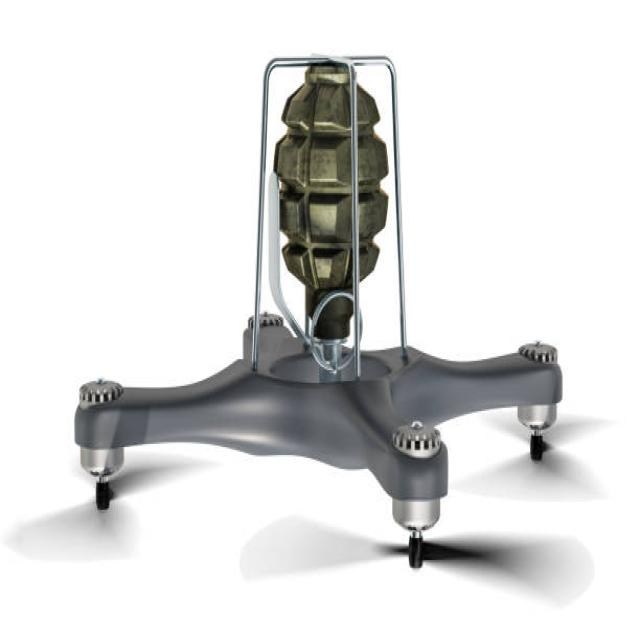grenade: (273, 57, 392, 373)
